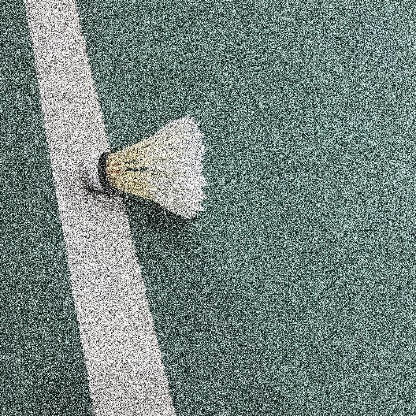ball_single: (78, 116, 207, 219)
